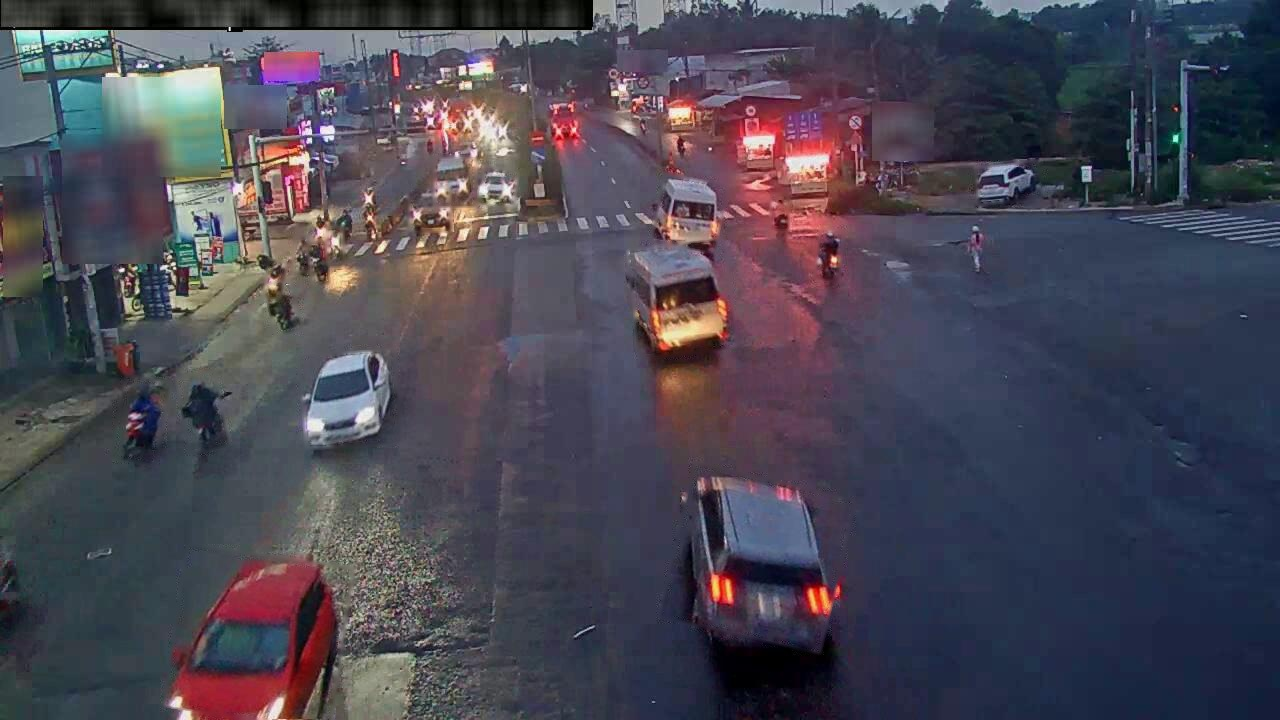Bus: (625, 244, 728, 354), (652, 178, 718, 248)
Car: (681, 476, 840, 656), (166, 559, 337, 719), (303, 350, 392, 451), (976, 163, 1036, 206), (435, 155, 469, 202), (411, 197, 450, 234), (478, 172, 512, 202)
Motorcycle: (296, 246, 328, 282)
Motorcyclist: (181, 383, 231, 445), (125, 390, 161, 450), (266, 266, 295, 330), (818, 232, 840, 279), (771, 196, 789, 232), (266, 264, 283, 298), (295, 240, 309, 276), (329, 227, 344, 259)
Pedestrian: (967, 225, 984, 272), (336, 208, 352, 241), (364, 206, 378, 241)
